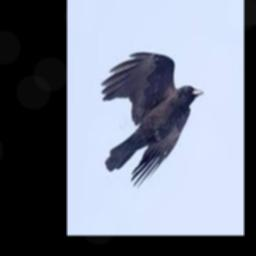Crow: (101, 50, 204, 186)
